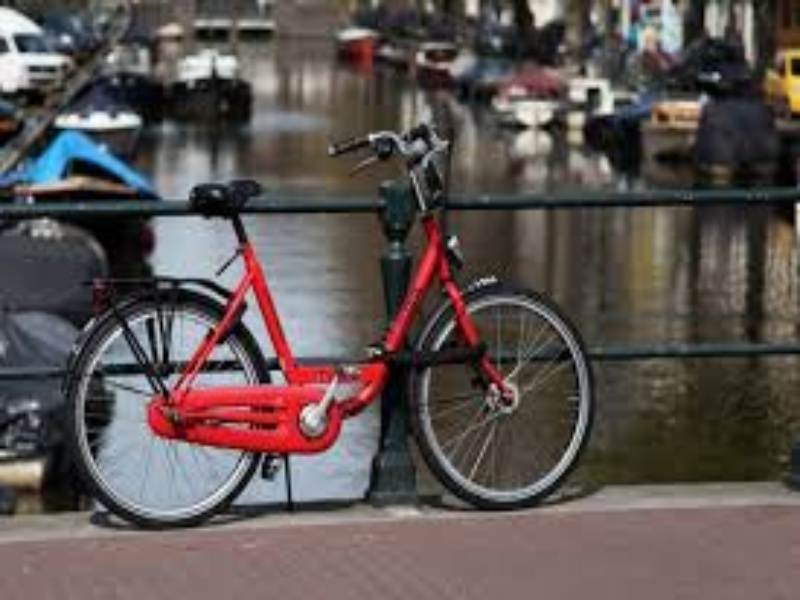bicycle: (56, 119, 606, 533)
